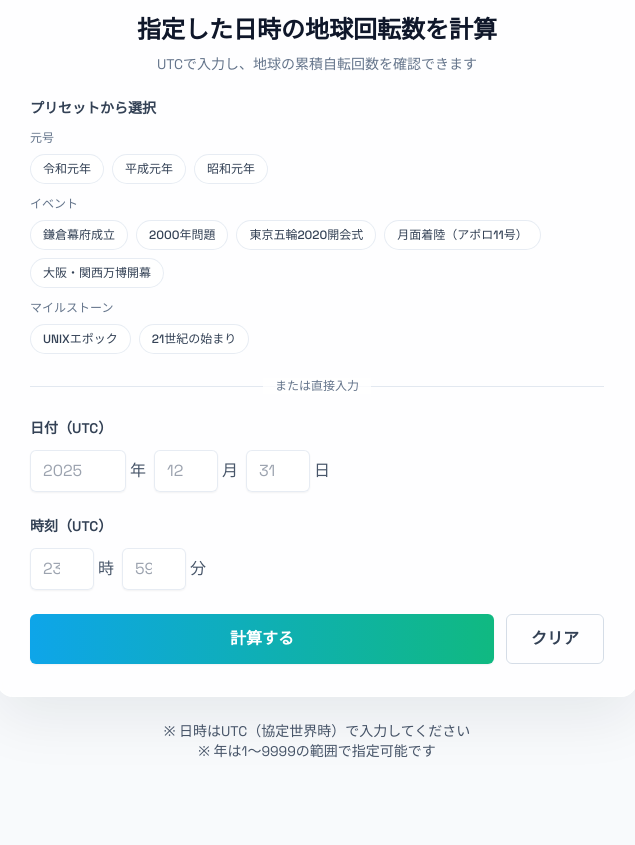
Scenario: DateTimeInput › バリデーション › 必須入力チェック - すべてのフィールドが空の場合
Click the button "計算する": (262, 639) [30,614,494,664]
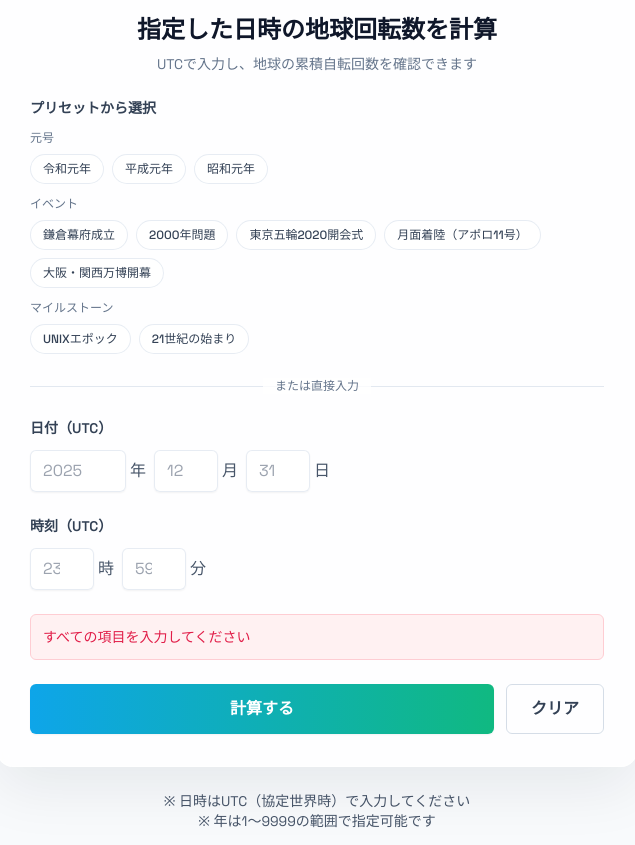
Result: the text "すべての項目を入力してください" is shown at [43,628,251,646]
